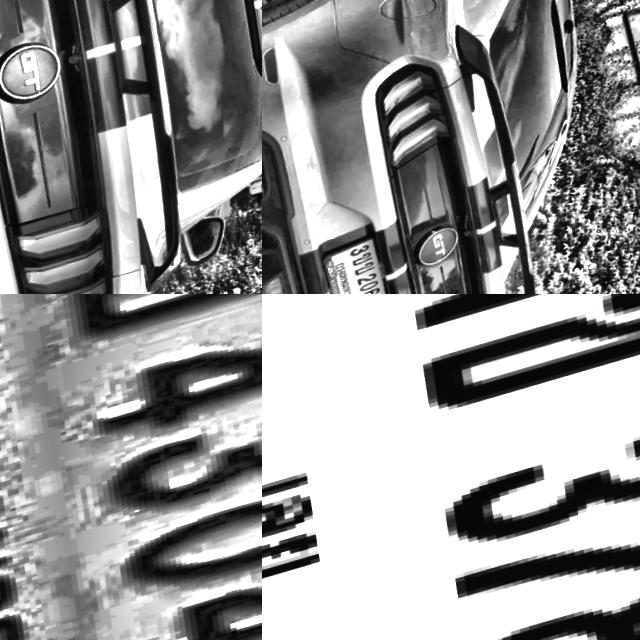license-plate: (262, 294, 640, 640), (0, 294, 262, 640), (320, 234, 407, 294)
